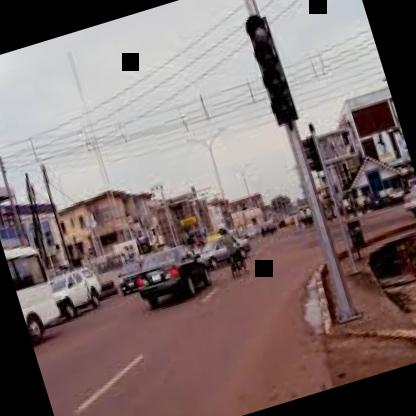car: (111, 225, 224, 340), (0, 218, 87, 352), (172, 182, 260, 282), (43, 240, 128, 334), (390, 156, 416, 220)
